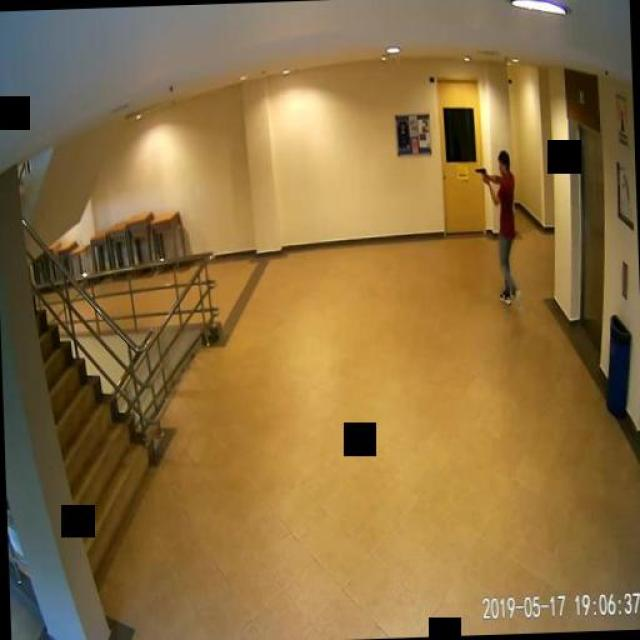gun: (474, 165, 485, 179)
